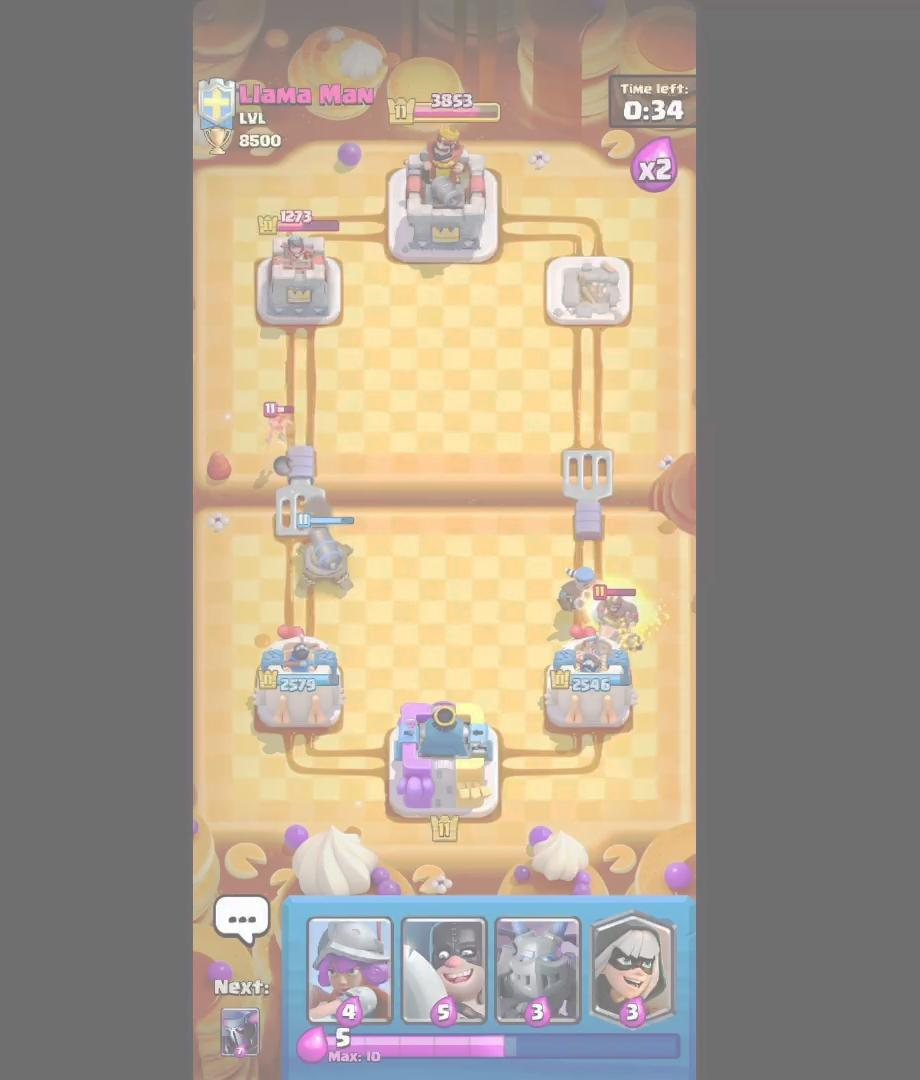Bomber: (260, 396, 306, 483)
Hog Rider: (593, 587, 642, 649)
